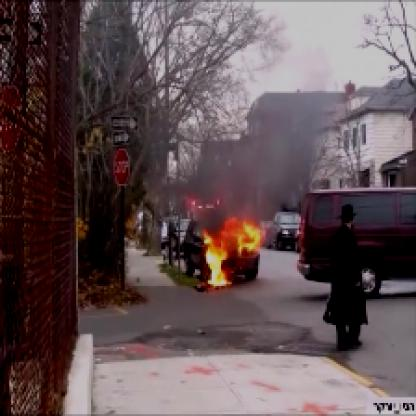Fire: (190, 191, 258, 290)
